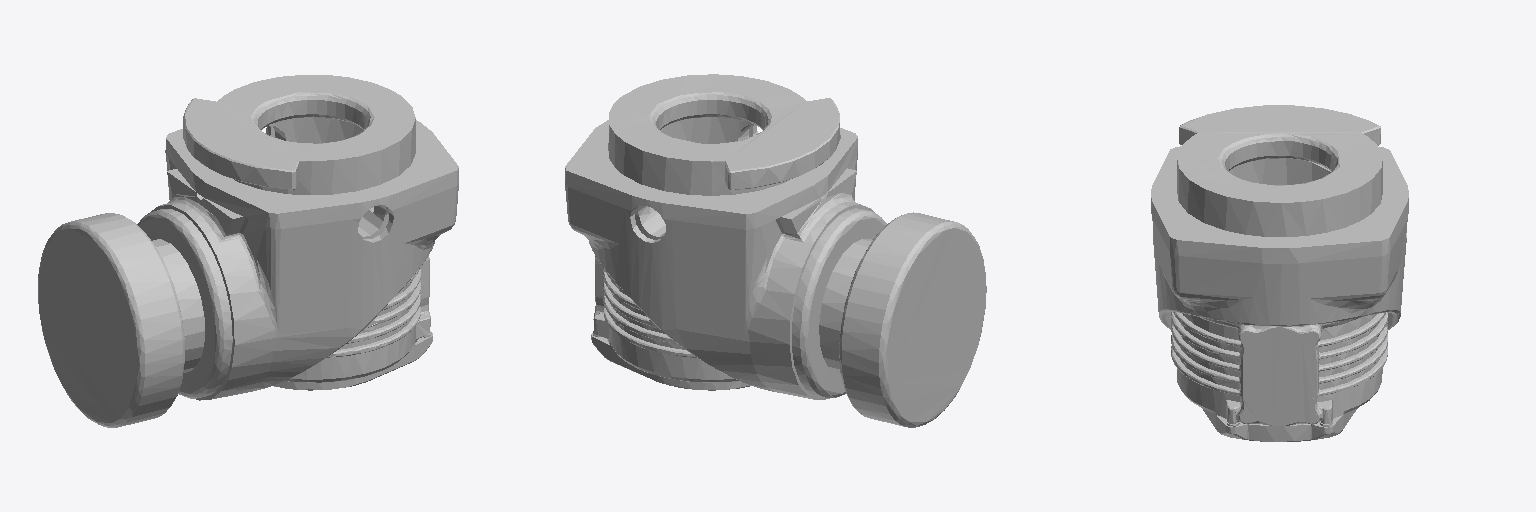
Rendered from front_left_hip.obj.
3 renders of one model, left to right at view 1: azimuth 30°, elevation 25°; view 2: azimuth 150°, elevation 25°; view 3: azimuth 270°, elevation 25°, orthographic.
Parts seen in each view (by area): view 1: _2-042137-001-A00_TOP_LEVEL_DEFEATURED_-_NOT_FOR_PRODUCTION_008; view 2: _2-042137-001-A00_TOP_LEVEL_DEFEATURED_-_NOT_FOR_PRODUCTION_008; view 3: _2-042137-001-A00_TOP_LEVEL_DEFEATURED_-_NOT_FOR_PRODUCTION_008.
Boxes of the visible parts, x1=… form: _2-042137-001-A00_TOP_LEVEL_DEFEATURED_-_NOT_FOR_PRODUCTION_008: x1=38, y1=75, x2=458, y2=427; _2-042137-001-A00_TOP_LEVEL_DEFEATURED_-_NOT_FOR_PRODUCTION_008: x1=565, y1=74, x2=986, y2=427; _2-042137-001-A00_TOP_LEVEL_DEFEATURED_-_NOT_FOR_PRODUCTION_008: x1=1151, y1=105, x2=1408, y2=441.
Size of the model in its own units: 0.1417 by 0.1001 by 0.0941.